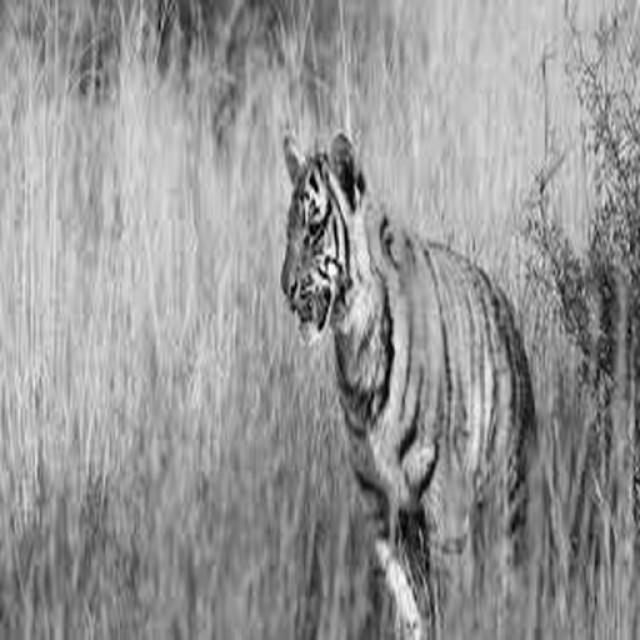Tiger: (276, 129, 538, 639)
